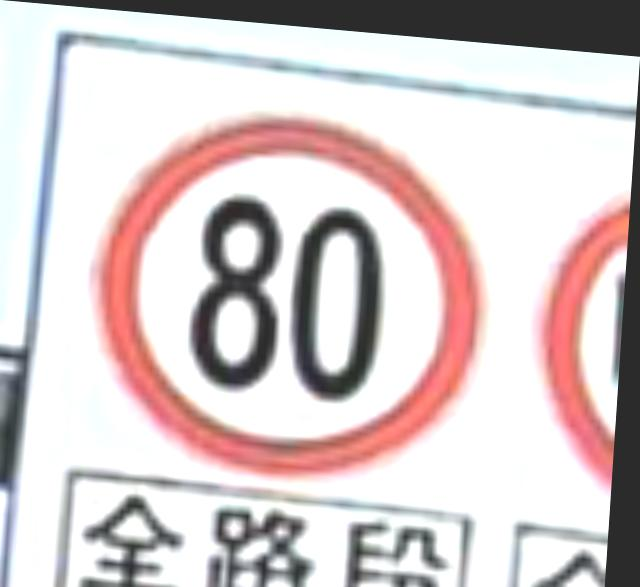limit80: (79, 66, 503, 479)
